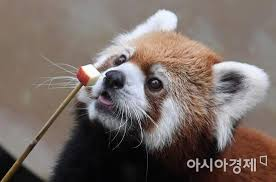redPanda: (67, 6, 274, 156)
